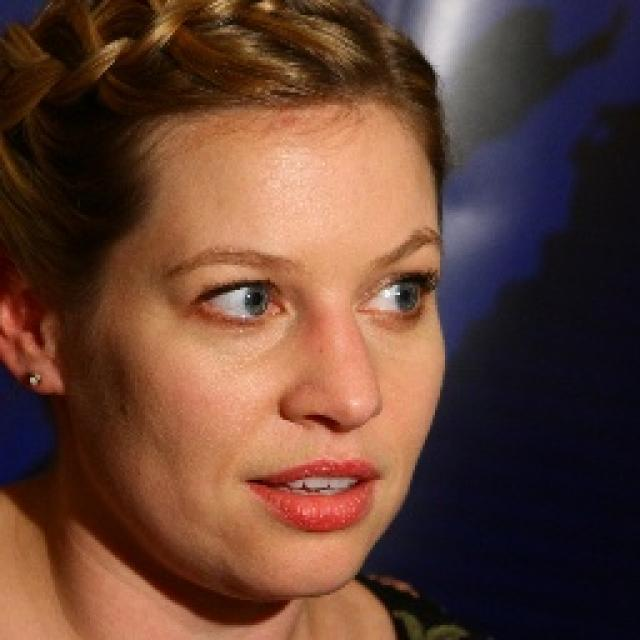earlobe: (0, 231, 68, 399)
